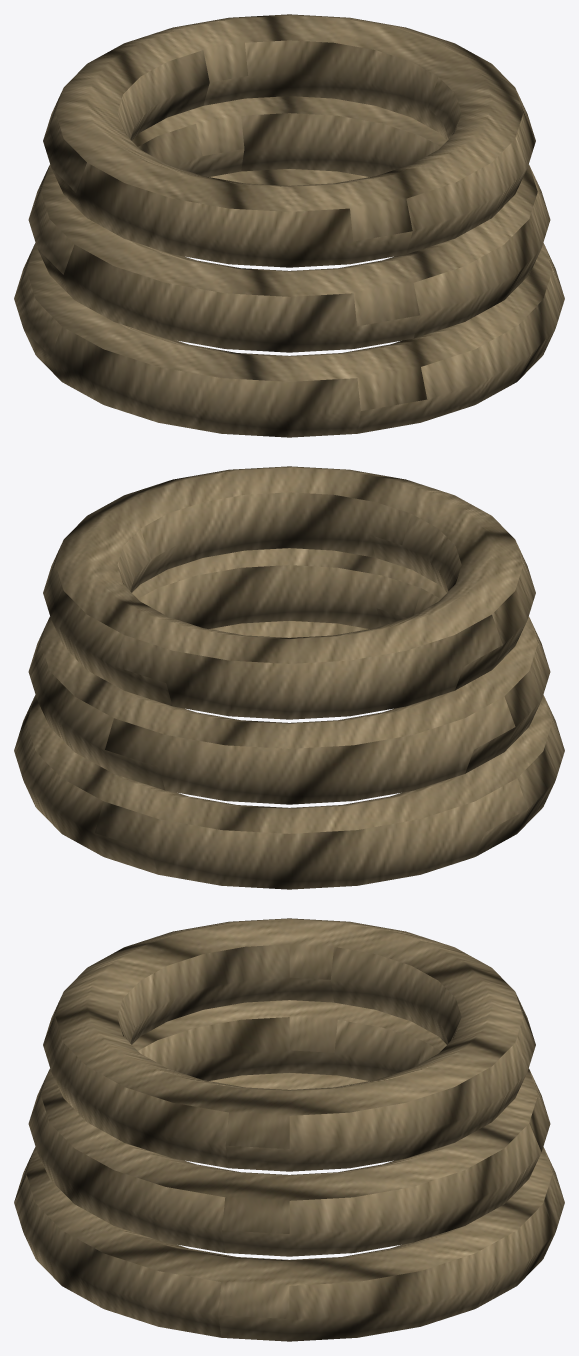
The model's file is rope_coil.fbx.
3 renders of one model, top to bottom at view 1: azimuth 30°, elevation 25°; view 2: azimuth 150°, elevation 25°; view 3: azimuth 270°, elevation 25°, orthographic.
Visible parts, largest first — view 1: rope_coil; view 2: rope_coil; view 3: rope_coil.
Boxes of the visible parts, x1,y1,x2,y2 form: rope_coil: (14,14,564,437); rope_coil: (14,466,564,889); rope_coil: (14,918,564,1341).
Bounding box in the file's own units: 0.19 × 0.09 × 0.19.
1 material, 1 textured.
